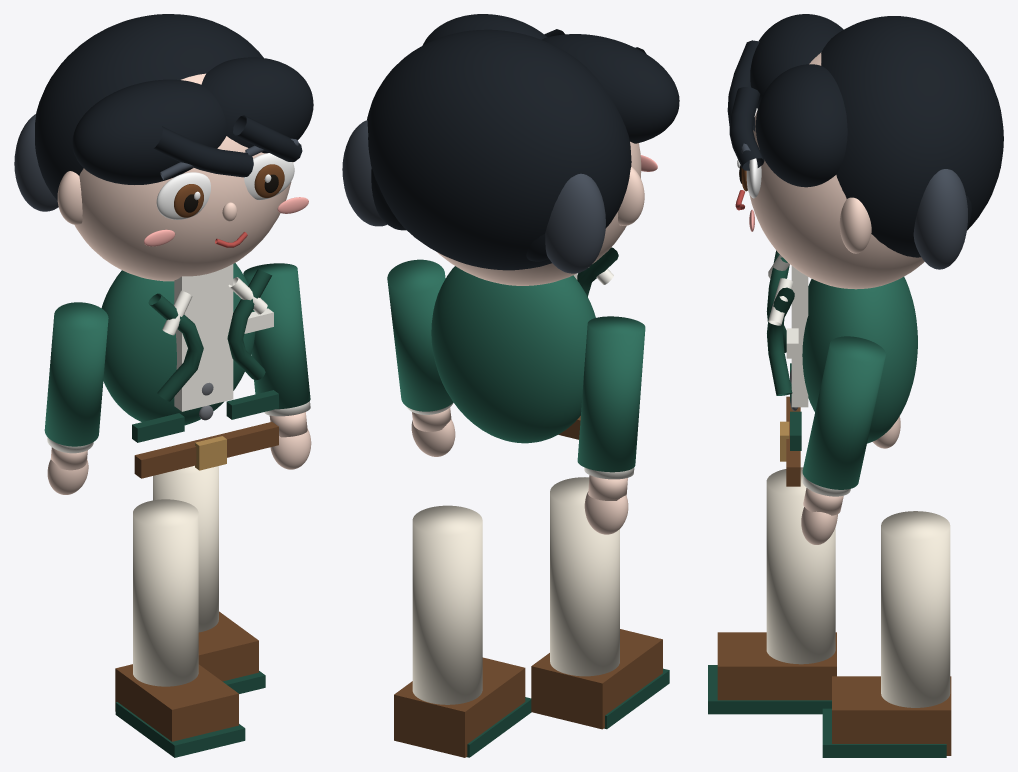
Rendered from guest-11-master.glb.
3 renders of one model, left to right at view 1: azimuth 30°, elevation 25°; view 2: azimuth 150°, elevation 25°; view 3: azimuth 270°, elevation 25°, orthographic. The views are drawn at different scales.
Visible parts, largest first — view 1: Hair back, Head, Suit trouser -1, Side part left, Suit torso, Suit sleeve -1, Side part right, Shirt front, Dress shoe -1, Suit sleeve 1, Suit trouser 1, Guest11 brown belt (+23 smaller); view 2: Hair back, Suit torso, Suit trouser 1, Suit trouser -1, Suit sleeve -1, Side part left, Dress shoe 1, Dress shoe -1, Suit sleeve 1, Short hair lock 1, Short hair lock 7, Head (+10 smaller); view 3: Hair back, Suit trouser 1, Suit trouser -1, Head, Suit torso, Side part right, Suit sleeve 1, Dress shoe 1, Dress shoe -1, Short hair lock 7, Side part left, Shoe welt -1 (+10 smaller).
Part boxes in pixels (bbox=[...]): Hair back: bbox=[35, 14, 263, 200]; Head: bbox=[74, 73, 293, 281]; Suit trouser -1: bbox=[133, 499, 198, 686]; Side part left: bbox=[72, 79, 226, 184]; Suit torso: bbox=[101, 263, 255, 425]; Suit sleeve -1: bbox=[44, 302, 108, 446]; Side part right: bbox=[201, 57, 313, 153]; Shirt front: bbox=[174, 264, 233, 411]; Dress shoe -1: bbox=[115, 664, 238, 741]; Suit sleeve 1: bbox=[243, 263, 310, 409]; Suit trouser 1: bbox=[153, 465, 218, 632]; Guest11 brown belt: bbox=[134, 422, 278, 478]; Hair back: bbox=[367, 29, 631, 270]; Suit torso: bbox=[431, 266, 595, 443]; Suit trouser 1: bbox=[412, 505, 482, 704]; Suit trouser -1: bbox=[550, 477, 619, 676]; Suit sleeve -1: bbox=[577, 316, 645, 472]; Side part left: bbox=[542, 34, 679, 143]; Dress shoe 1: bbox=[394, 657, 525, 757]; Dress shoe -1: bbox=[531, 629, 662, 729]; Suit sleeve 1: bbox=[387, 259, 453, 411]; Short hair lock 1: bbox=[545, 173, 605, 273]; Short hair lock 7: bbox=[342, 120, 386, 226]; Head: bbox=[437, 141, 641, 285]; Hair back: bbox=[821, 16, 1003, 257]; Suit trouser 1: bbox=[881, 511, 950, 707]; Suit trouser -1: bbox=[766, 467, 835, 664]; Head: bbox=[749, 52, 924, 289]; Suit torso: bbox=[802, 277, 917, 443]; Side part right: bbox=[755, 64, 847, 187]; Suit sleeve 1: bbox=[802, 336, 885, 489]; Dress shoe 1: bbox=[832, 676, 951, 755]; Dress shoe -1: bbox=[717, 632, 836, 700]; Short hair lock 7: bbox=[913, 169, 967, 269]; Side part left: bbox=[750, 14, 843, 108]; Shoe welt -1: bbox=[708, 665, 831, 714].
Size of the model in its own units: 1.25 by 3.19 by 1.24.
